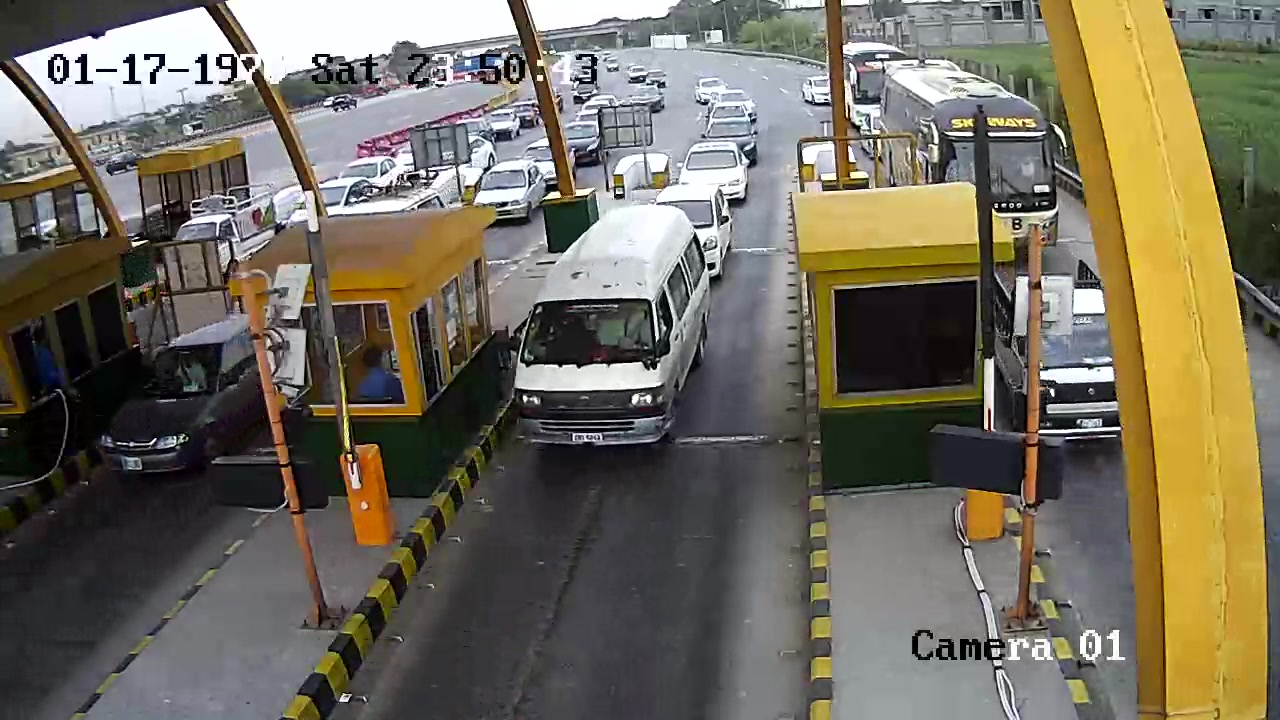F2: (510, 203, 708, 457)
